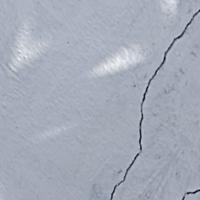crack: (98, 0, 199, 199)
